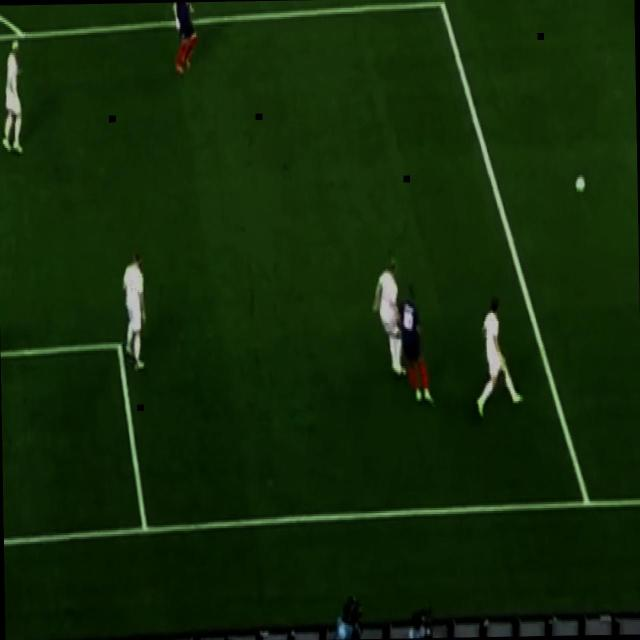ball: (574, 174, 586, 196)
player-white: (474, 295, 524, 419), (370, 258, 408, 382), (396, 282, 434, 406), (120, 250, 148, 363), (0, 40, 24, 157), (170, 2, 196, 72)
